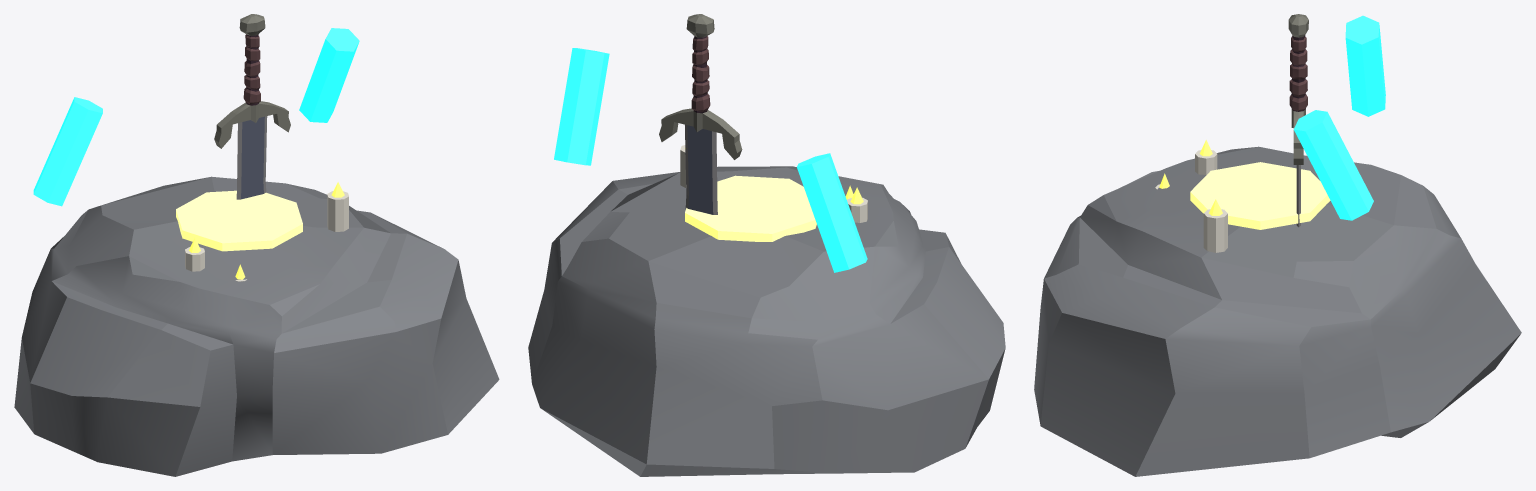
Rendered from prop_runic_shrine_sword.glb.
The picture shows the model from 3 angles, left to right: view 1: azimuth 30°, elevation 25°; view 2: azimuth 150°, elevation 25°; view 3: azimuth 270°, elevation 25°; orthographic projection. The views are drawn at different scales.
Parts seen in each view (by area): view 1: prop_runic_shrine_sword; view 2: prop_runic_shrine_sword; view 3: prop_runic_shrine_sword.
Boxes of the visible parts, left/top/right/bottom form: prop_runic_shrine_sword: left=14, top=14, right=499, bottom=476; prop_runic_shrine_sword: left=528, top=14, right=1005, bottom=476; prop_runic_shrine_sword: left=1034, top=14, right=1521, bottom=476.
Bounding box in the file's own units: 1.6 × 1.37 × 1.53.
